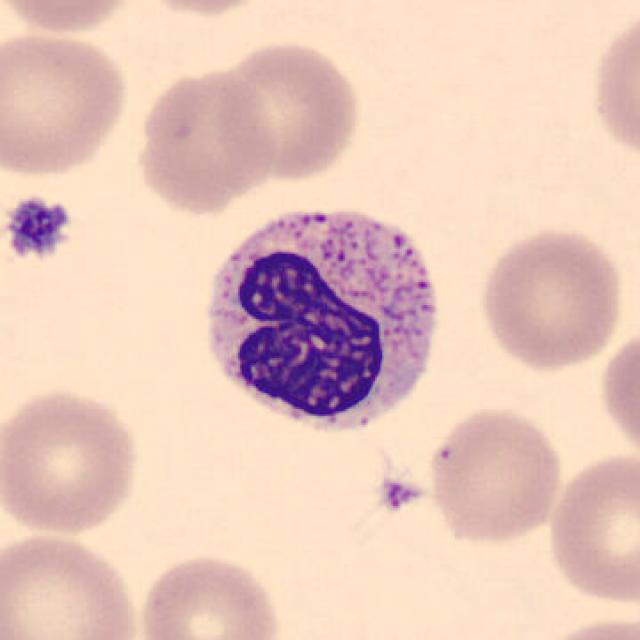Neutrophil: (189, 194, 455, 448)
Platelets: (2, 192, 76, 263), (377, 476, 423, 511)
RBC: (0, 381, 148, 541), (473, 222, 627, 374), (208, 35, 364, 185), (130, 63, 279, 217), (0, 25, 135, 182), (425, 404, 565, 546), (0, 527, 148, 640), (544, 448, 640, 608), (134, 550, 286, 640), (587, 4, 638, 171), (596, 322, 638, 470), (0, 0, 144, 39), (530, 612, 640, 640), (128, 0, 282, 19)
